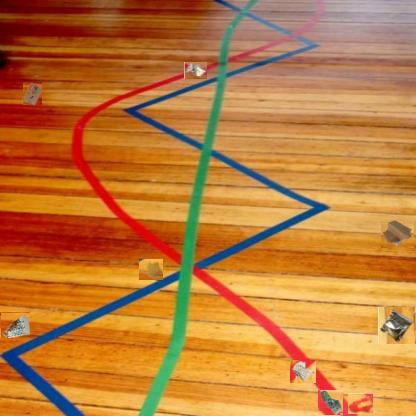dirty: (378, 307, 416, 344), (382, 218, 416, 248), (1, 312, 30, 338), (317, 389, 343, 415), (290, 359, 315, 383), (22, 82, 42, 106), (184, 61, 207, 79)
liquid: (347, 393, 373, 414), (139, 260, 163, 282)
